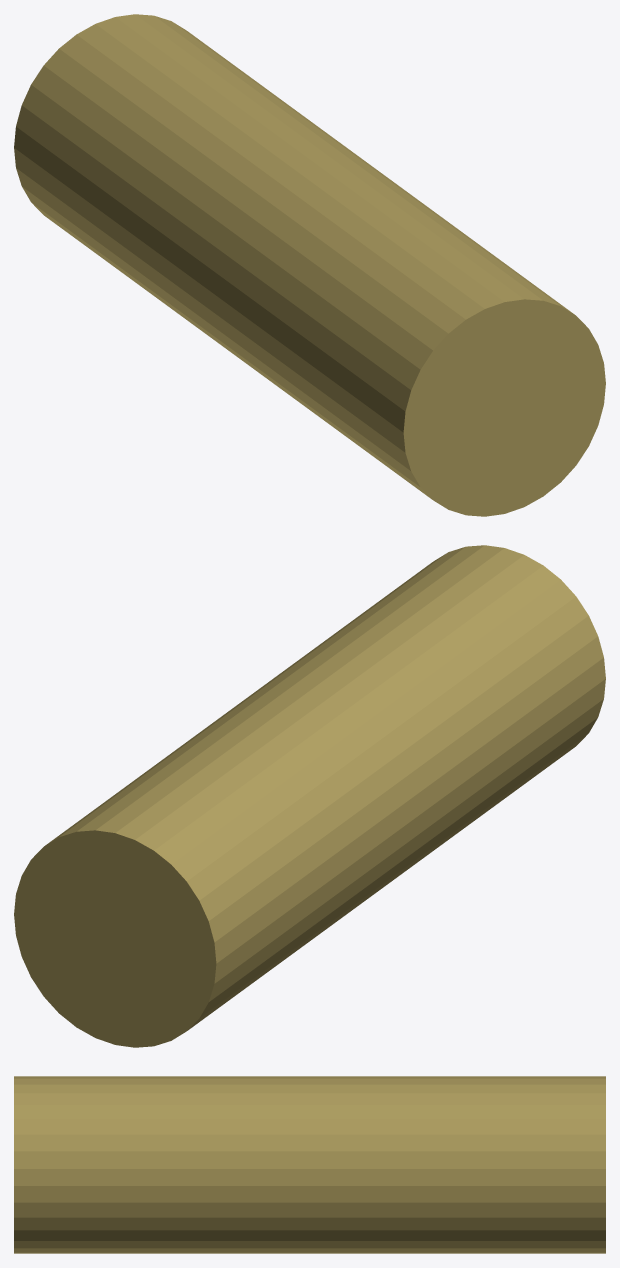
File: inner-barrel.glb
The picture shows the model from 3 angles, top to bottom: view 1: azimuth 30°, elevation 25°; view 2: azimuth 150°, elevation 25°; view 3: azimuth 270°, elevation 25°; orthographic projection. The views are drawn at different scales.
Parts seen in each view (by area): view 1: world; view 2: world; view 3: world.
Part boxes in pixels (x1,y1,x2,y2): world: (14, 14, 605, 516); world: (14, 545, 605, 1047); world: (14, 1076, 605, 1253).
Size of the model in its own units: 0.6 by 0.6 by 2.
